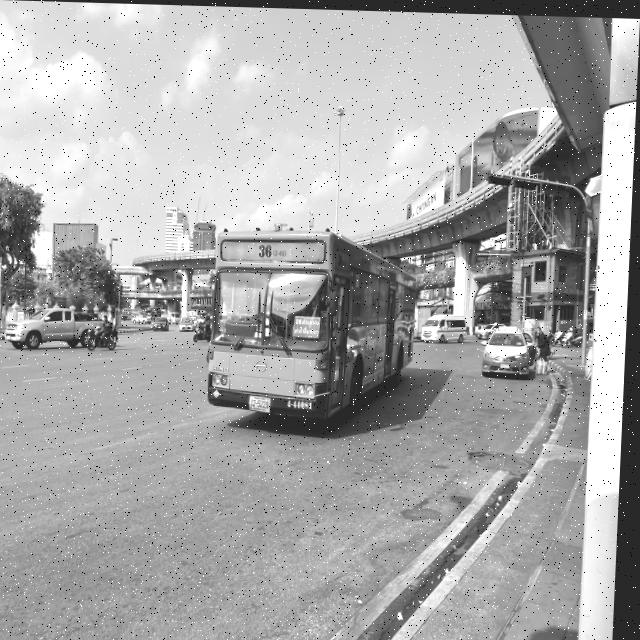BMTA-bus: (207, 225, 421, 429)
Bus-Line-Number: (257, 240, 291, 259)
Destination-Sign-Normal: (296, 314, 324, 338)
